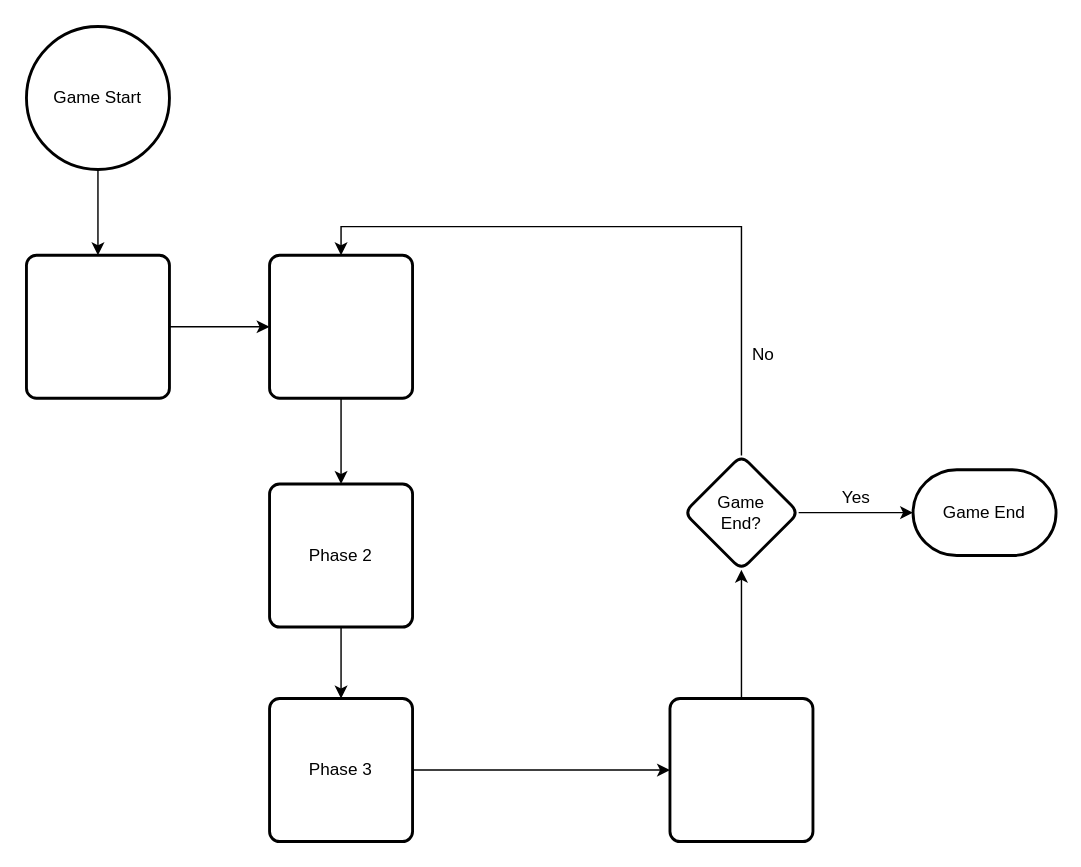
The diagram is 1081 pixels wide and 867 high, and some of its shapes have lost their labels. Each missing label, with the centre of its shape:
"Compute Changes" belongs at point (741, 769).
"Initialize Game" belongs at point (97, 326).
"Phase 1" belongs at point (340, 326).
